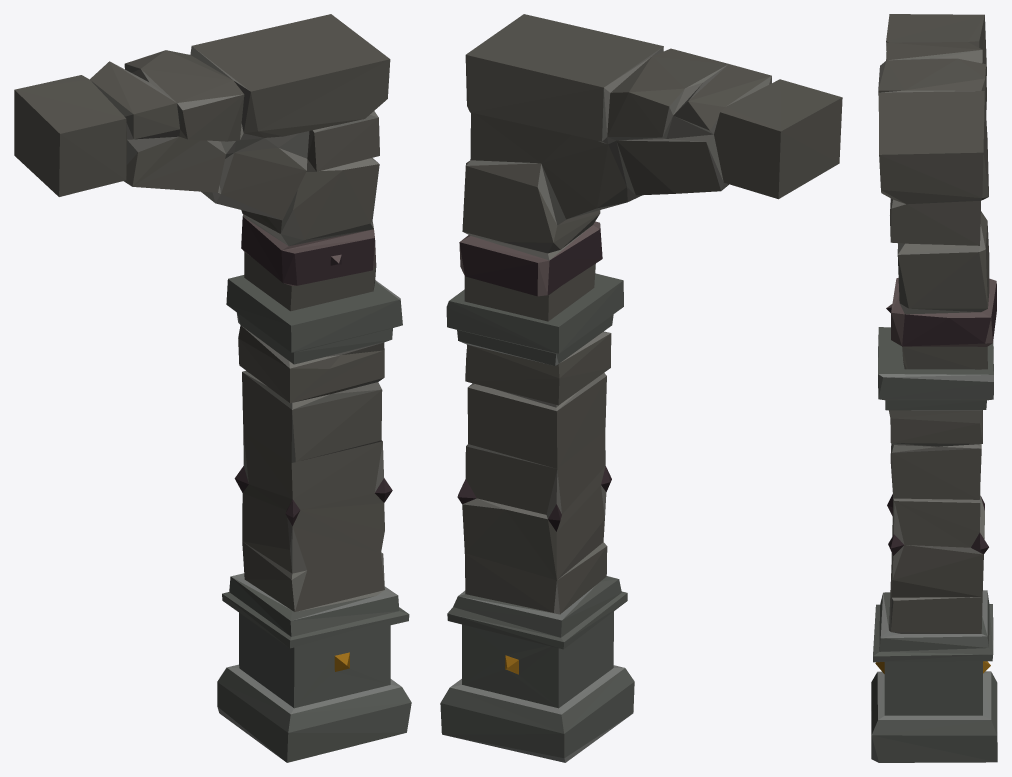
File: MDungeons_Wals_Arched_Half_01.FBX
3 renders of one model, left to right at view 1: azimuth 30°, elevation 25°; view 2: azimuth 150°, elevation 25°; view 3: azimuth 270°, elevation 25°, orthographic. The views are drawn at different scales.
Parts seen in each view (by area): view 1: MDungeons_Wals_Arched_Half_01_LOD0; view 2: MDungeons_Wals_Arched_Half_01_LOD0; view 3: MDungeons_Wals_Arched_Half_01_LOD0.
Boxes of the visible parts, x1,y1,x2,y2 form: MDungeons_Wals_Arched_Half_01_LOD0: (14, 14, 411, 762); MDungeons_Wals_Arched_Half_01_LOD0: (440, 14, 842, 762); MDungeons_Wals_Arched_Half_01_LOD0: (871, 14, 997, 762).
Size of what is drawn, in the model's own units: 3.15 by 6.03 by 1.13.
